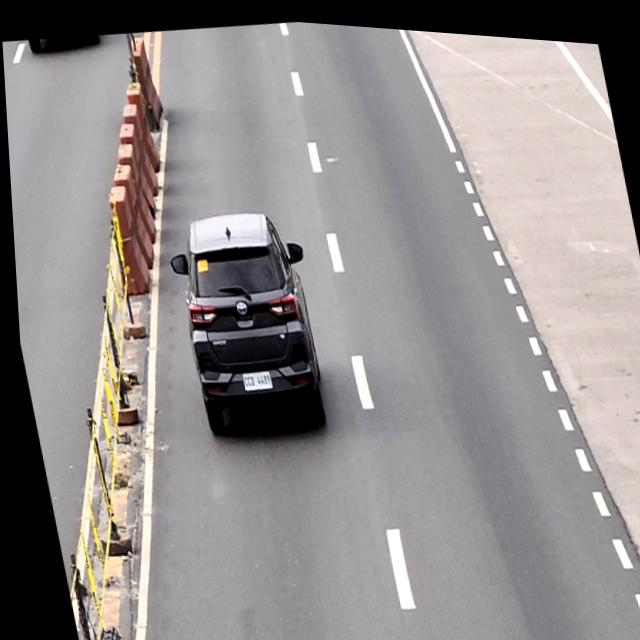Car: (159, 196, 335, 444)
License-Plate: (236, 364, 270, 390)
